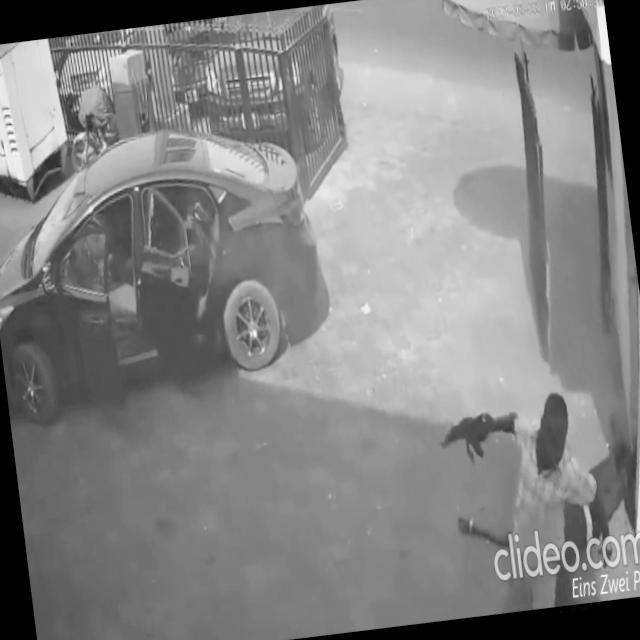gun: (436, 408, 502, 469), (177, 192, 218, 244)
person with a gun: (436, 383, 614, 614), (152, 184, 230, 357)
